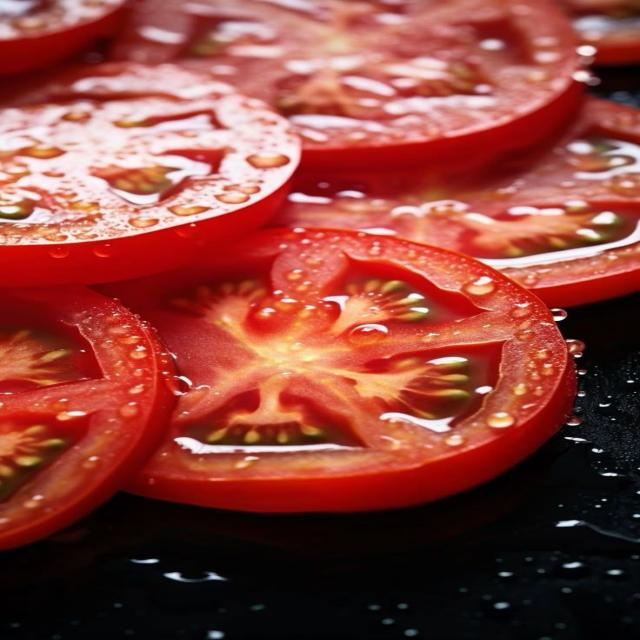sliced_tomato: (103, 229, 574, 511), (114, 0, 579, 169), (274, 99, 639, 306), (0, 64, 299, 285), (0, 287, 173, 548), (0, 0, 124, 75), (560, 0, 639, 65)
